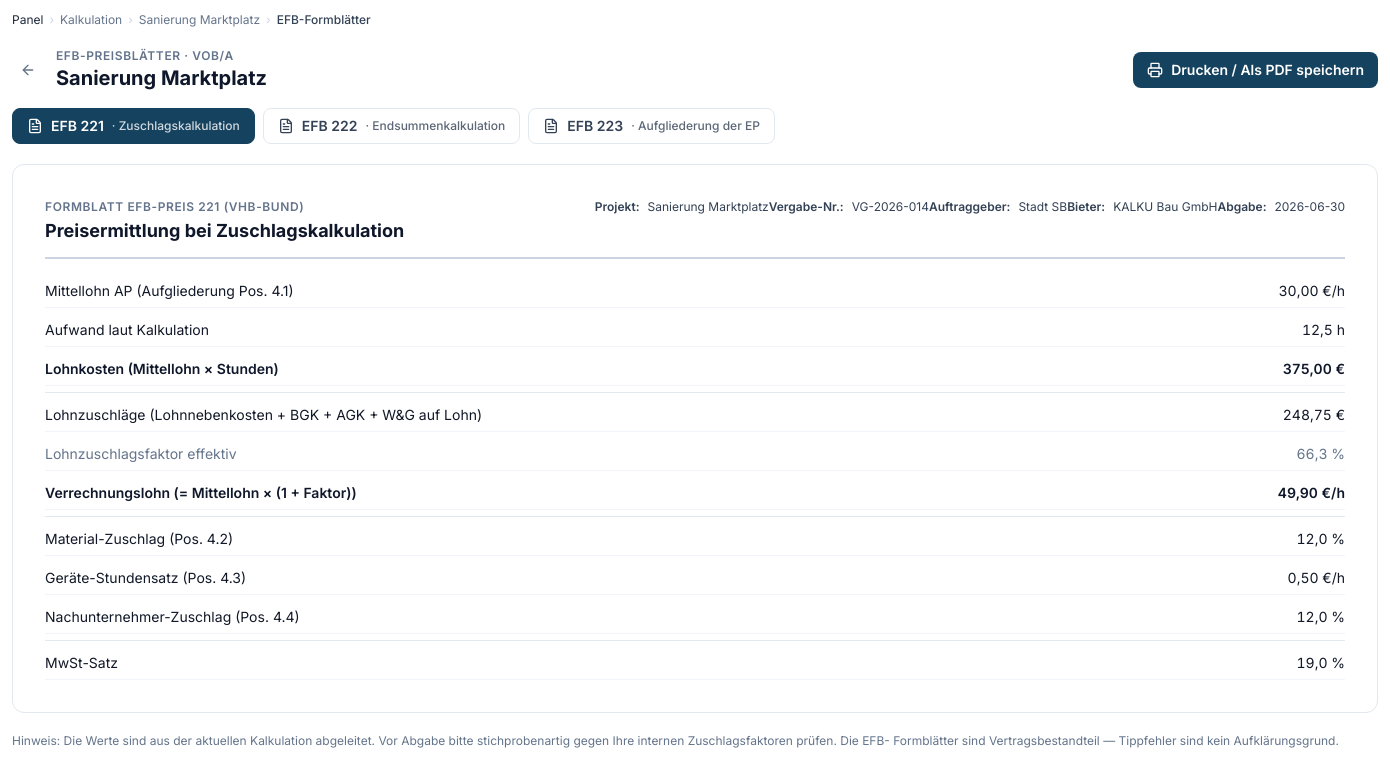
ProjectEfb — EFB 223 EP-Aufgliederung › with N positions → one row per non-header item, with EP-Aufgliederung columns
This screenshot has width=1390, height=780.
Click the button "EFB 223 · Aufgliederung der EP" at (652, 126), box [528,108,775,144]
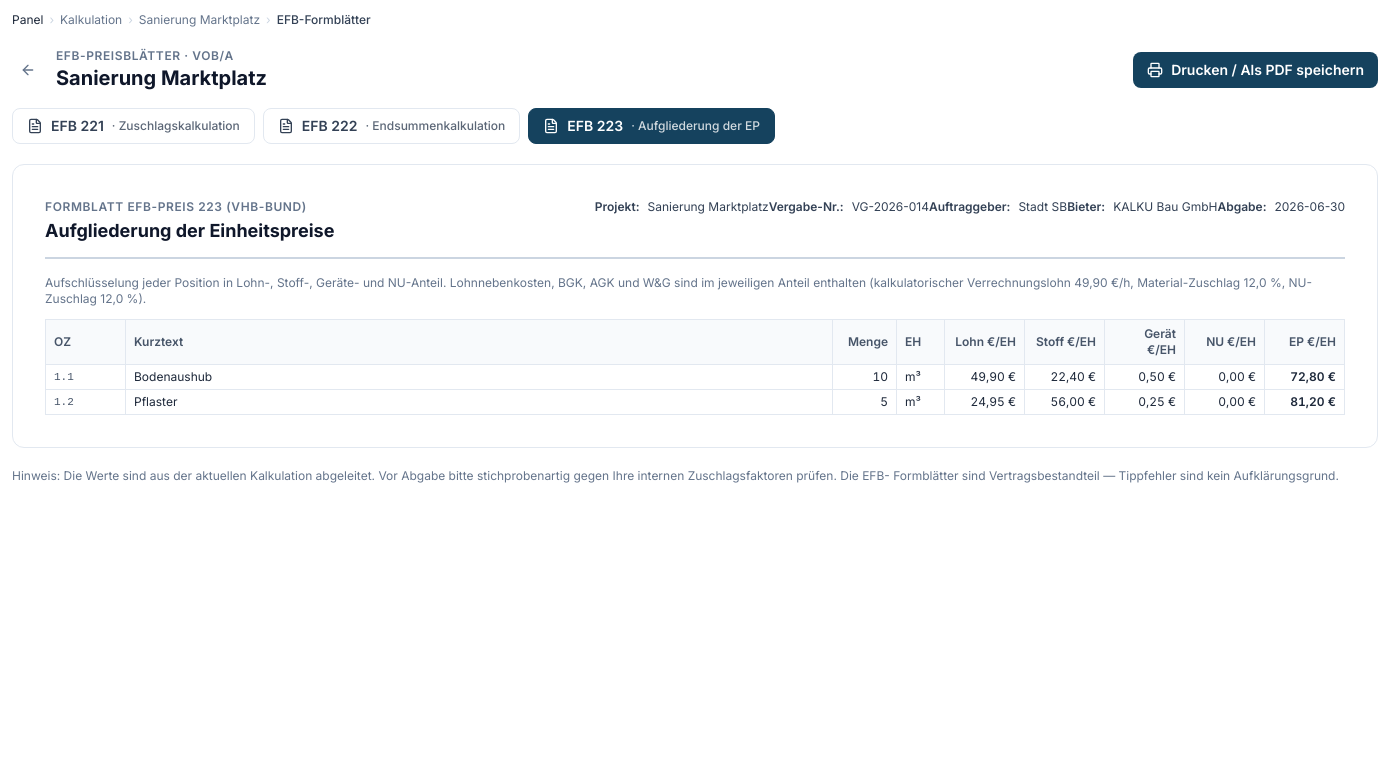
Expected: the text "Bodenaushub" is shown, [126,364,832,390]
Expected: the text "Pflaster" is shown, [126,390,832,414]
Expected: the text "1.1" is shown, [46,364,126,390]
